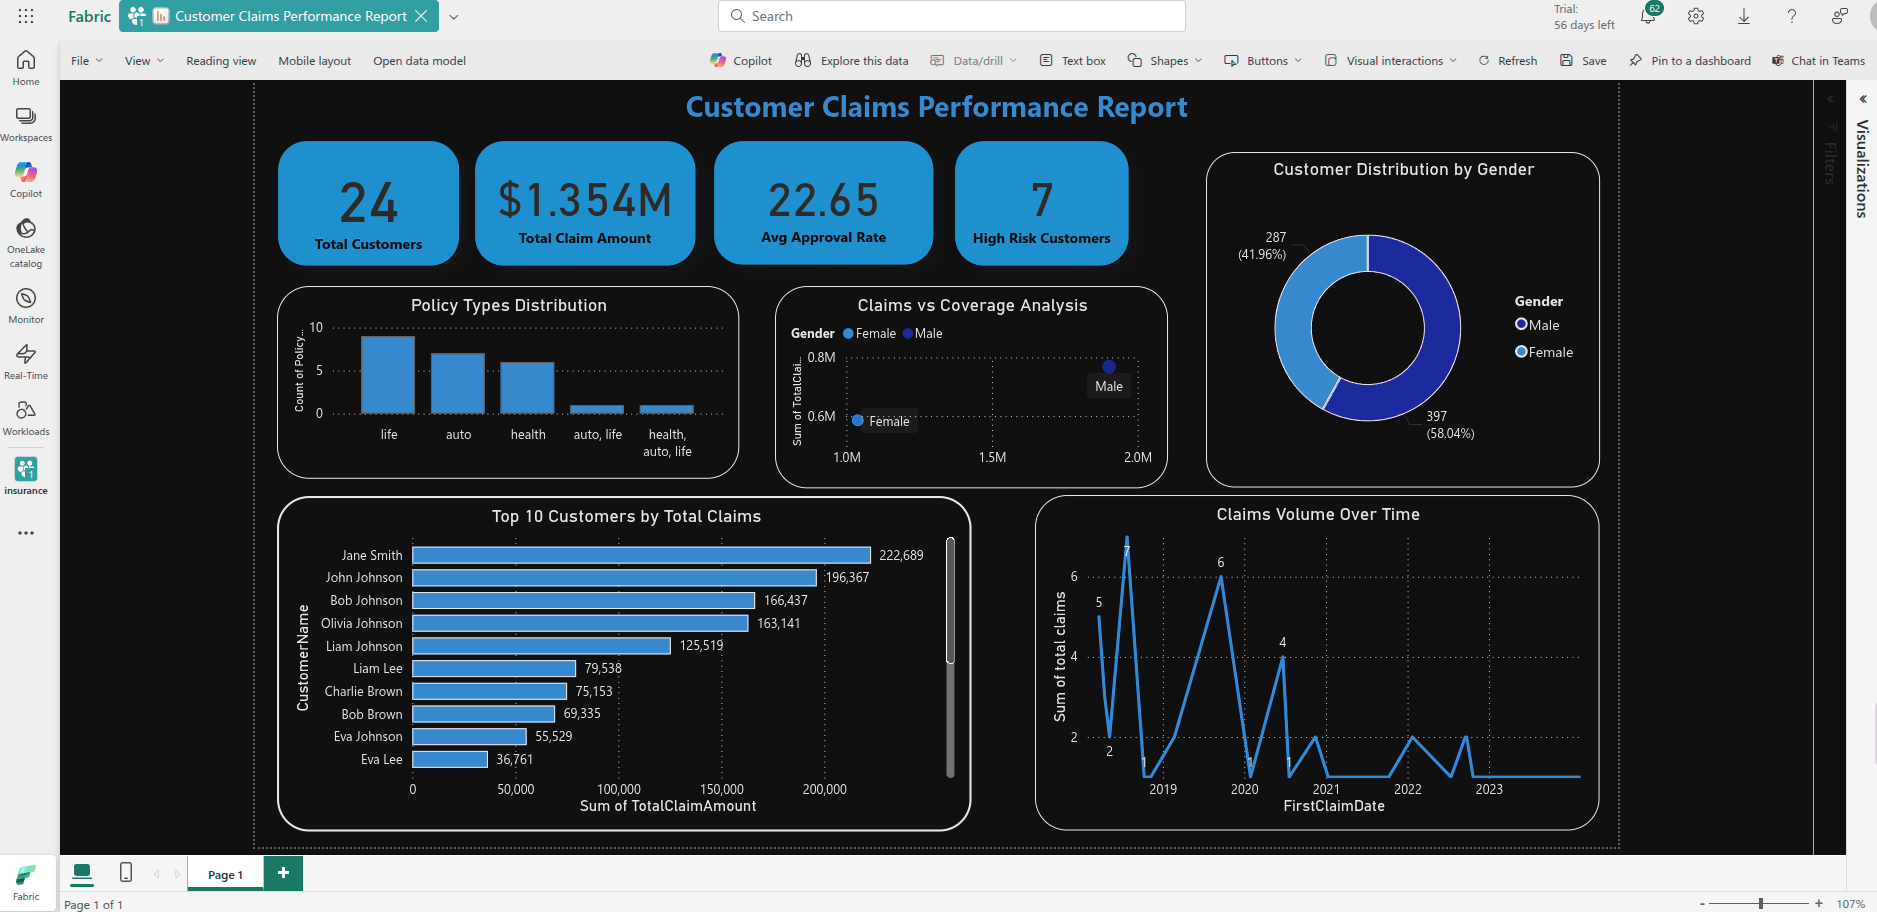

Layout of this report page (visuals, bound fields, positions):
{"tool":"powerbi","page":{"name":"Page 1","canvas":[1280,720],"ordinal":0},"visuals":[{"type":"card","fields":{"Values":["Sum(gold_customer_claims_analytics.TotalClaimAmount)"]},"box":[205.6,56.6,208.5,119.2],"z":0},{"type":"textbox","box":[0,0,1280,56.6],"z":1000},{"type":"card","fields":{"Values":["CountNonNull(gold_customer_claims_analytics.cust_id)"]},"box":[20.9,56.6,171.8,119.2],"z":2000},{"type":"card","fields":{"Values":["Avg(gold_customer_claims_analytics.ApprovalRate)"]},"box":[430,56.6,210.5,119.2],"z":3000},{"type":"card","fields":{"Values":["CountNonNull(gold_customer_claims_analytics.cust_id)"]},"box":[656.4,56.6,164.8,119.2],"z":4000},{"type":"clusteredBarChart","title":"Top 10 Customers by Total Claims","fields":{"Category":["gold_customer_claims_analytics.CustomerName"],"Y":["Sum(gold_customer_claims_analytics.TotalClaimAmount)"]},"box":[20.9,390.3,652.4,314.8],"z":5000},{"type":"donutChart","title":"Customer Distribution by Gender","fields":{"Category":["gold_customer_claims_analytics.Gender"],"Y":["Sum(gold_customer_claims_analytics.cust_id)"]},"box":[892.7,67.6,369.9,315.4],"z":6000},{"type":"lineChart","title":"Claims Volume Over Time","fields":{"Category":["gold_customer_claims_analytics.FirstClaimDate"],"Y":["Sum(gold_customer_claims_analytics.TotalClaims)"]},"box":[731.9,389.3,530.3,314.8],"z":6001},{"type":"scatterChart","title":"Claims vs Coverage Analysis","fields":{"X":["Sum(gold_customer_claims_analytics.TotalCoverageAmount)"],"Y":["Sum(gold_customer_claims_analytics.TotalClaimAmount)"],"Series":["gold_customer_claims_analytics.Gender"],"Size":["Sum(gold_customer_claims_analytics.TotalClaims)"]},"box":[488.6,193.6,369.4,189.7],"z":6002},{"type":"clusteredColumnChart","title":"Policy Types Distribution","fields":{"Category":["gold_customer_claims_analytics.PolicyTypes"],"Y":["CountNonNull(gold_customer_claims_analytics.PolicyTypes)"]},"box":[20.9,193.6,433.9,180.7],"z":6003}]}

Visuals, with their boxes in screenshot pixels (x1, y1, x2, y2):
card - Sum(gold_customer_claims_analytics.TotalClaimAmount): locate(566, 73, 818, 217)
textbox: locate(318, 5, 1863, 73)
card - CountNonNull(gold_customer_claims_analytics.cust_id): locate(343, 73, 550, 217)
card - Avg(gold_customer_claims_analytics.ApprovalRate): locate(837, 73, 1091, 217)
card - CountNonNull(gold_customer_claims_analytics.cust_id): locate(1110, 73, 1309, 217)
"Top 10 Customers by Total Claims" clusteredBarChart: locate(343, 476, 1131, 856)
"Customer Distribution by Gender" donutChart: locate(1396, 87, 1842, 467)
"Claims Volume Over Time" lineChart: locate(1202, 475, 1842, 855)
"Claims vs Coverage Analysis" scatterChart: locate(908, 239, 1354, 468)
"Policy Types Distribution" clusteredColumnChart: locate(343, 239, 867, 457)
